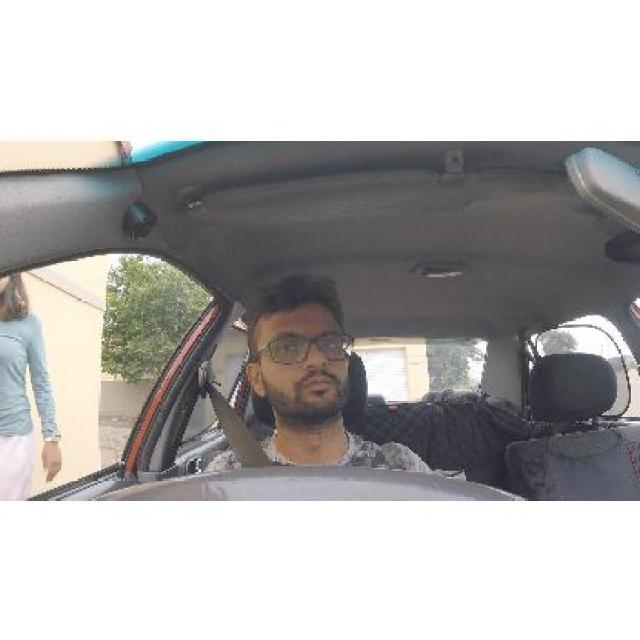person: (242, 291, 354, 412)
